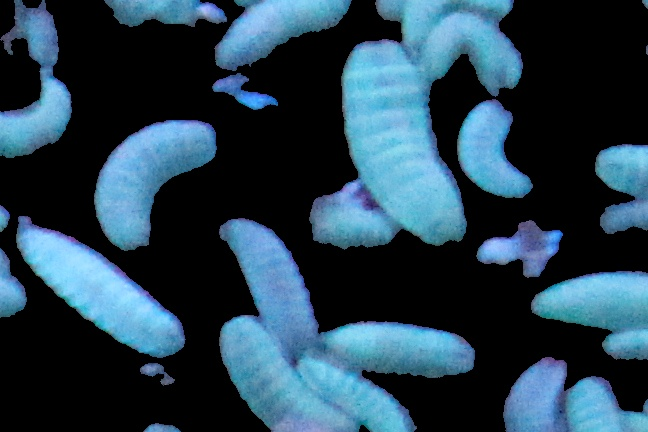larvae: (14, 217, 211, 357), (345, 40, 467, 247), (218, 316, 356, 432), (93, 119, 216, 247), (218, 220, 320, 347), (212, 1, 350, 70), (297, 357, 413, 432), (320, 321, 476, 374), (420, 11, 524, 88), (529, 272, 648, 334), (460, 98, 531, 199), (1, 67, 72, 162), (501, 356, 570, 432), (403, 1, 515, 40), (302, 203, 393, 247), (568, 376, 616, 432)
